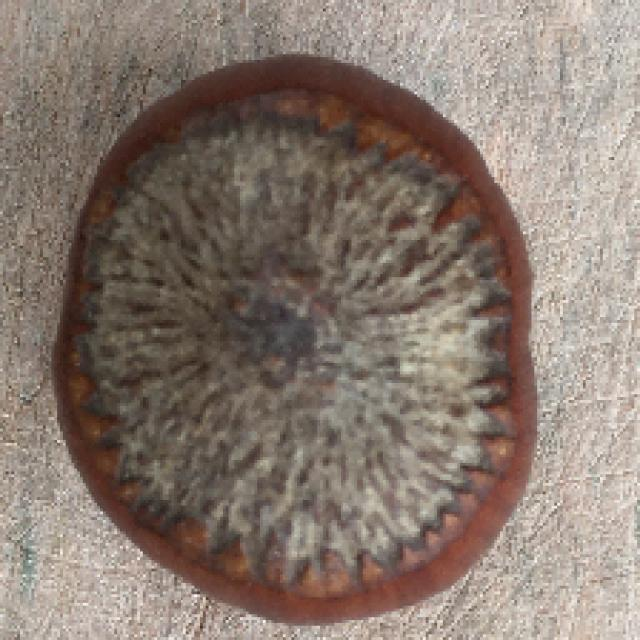DamagedHazelnut: (55, 53, 542, 630)
